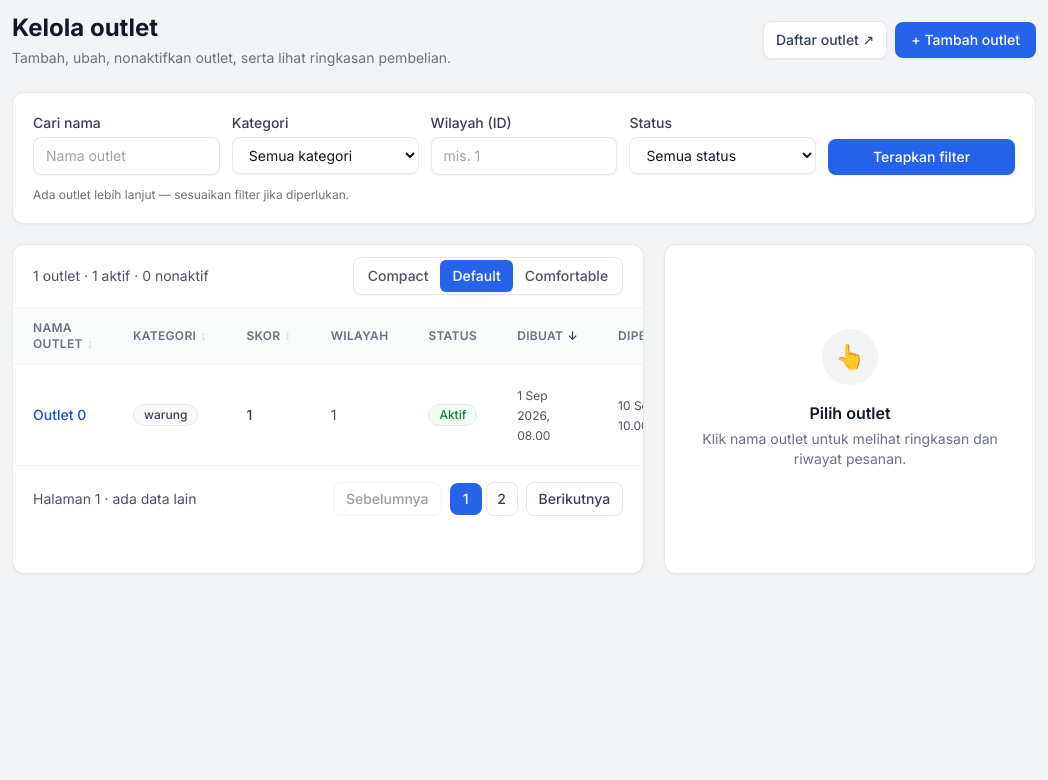
admin outlets page › sortable wiring + edge cases › renders the empty state + beyond-total pagination guard without crashing
The image size is (1048, 780).
Expected: the button "Outlet 0" is shown, [33, 405, 86, 425]
Click the button "Berikutnya": (574, 499) [526, 482, 623, 516]
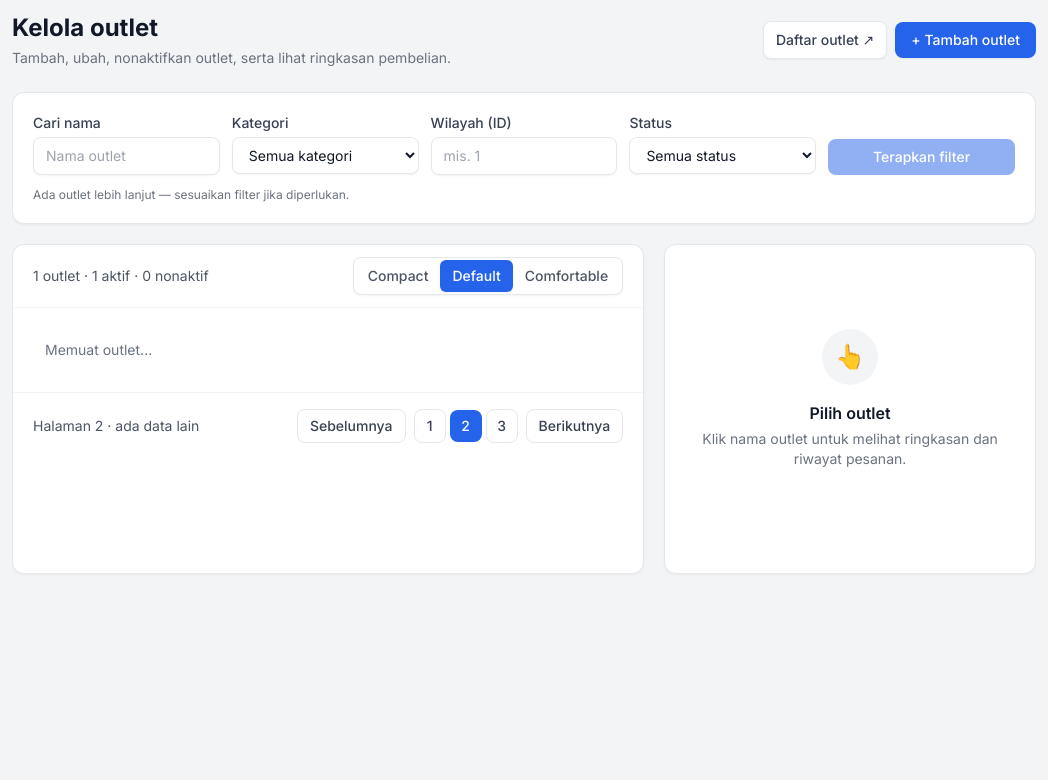
Click the button "Berikutnya": (574, 426) [526, 409, 623, 443]
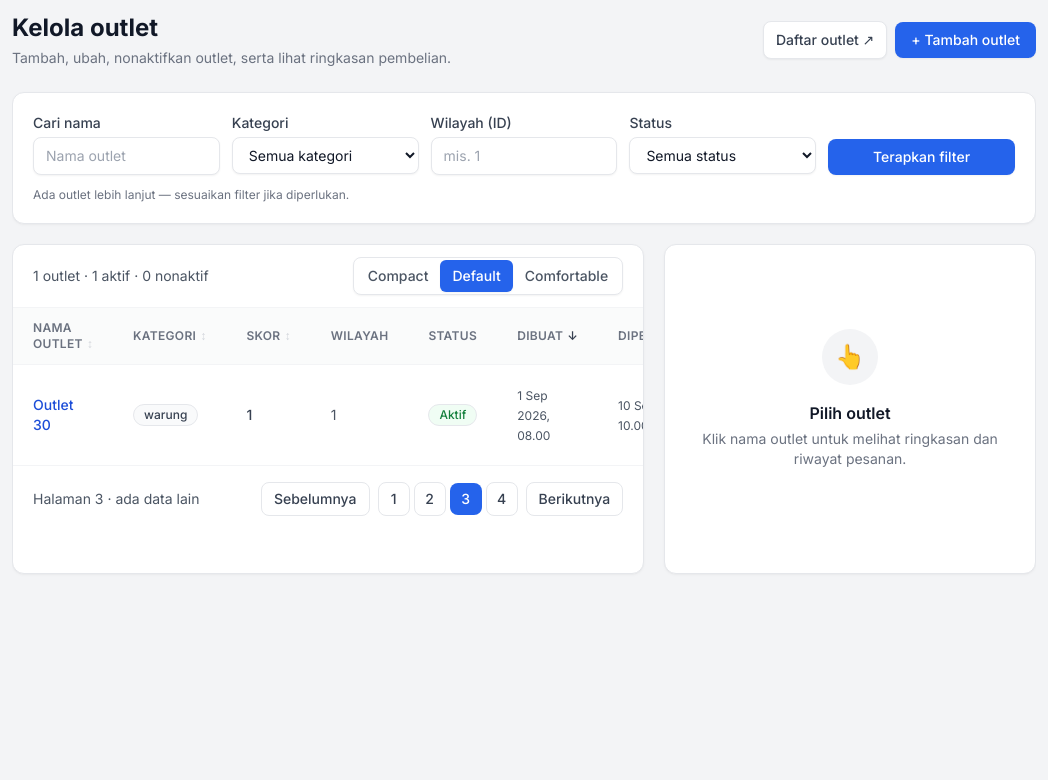
Click the button "Berikutnya": (574, 499) [526, 482, 623, 516]
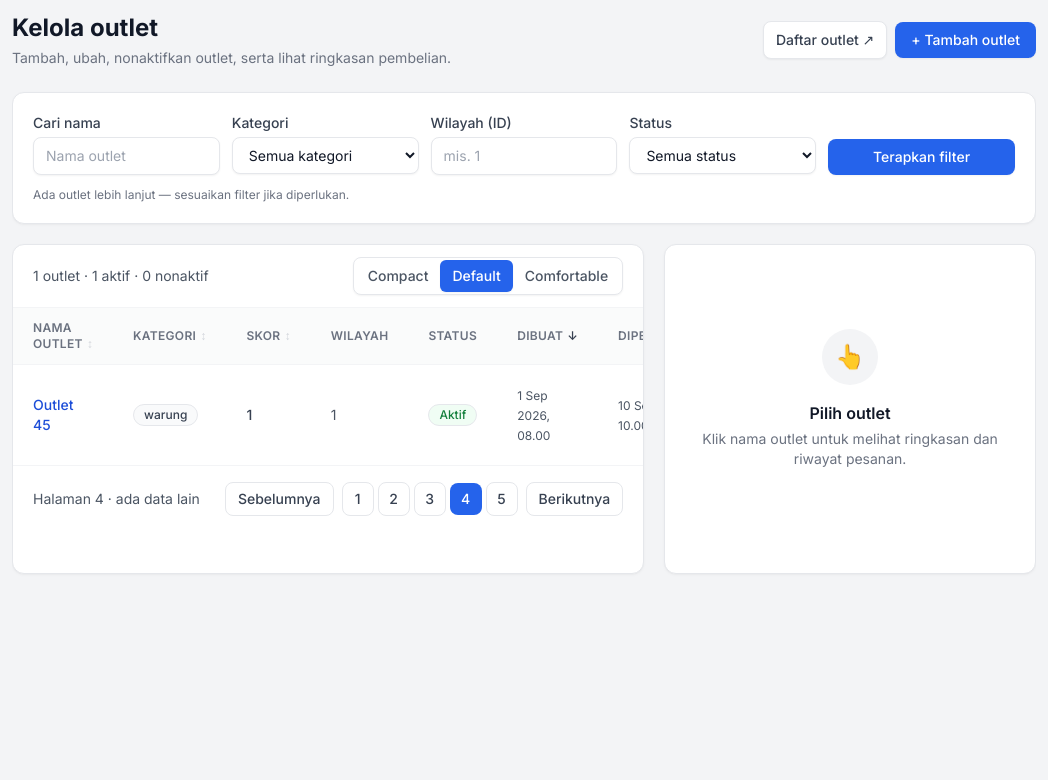
Click the button "Berikutnya": (574, 499) [526, 482, 623, 516]
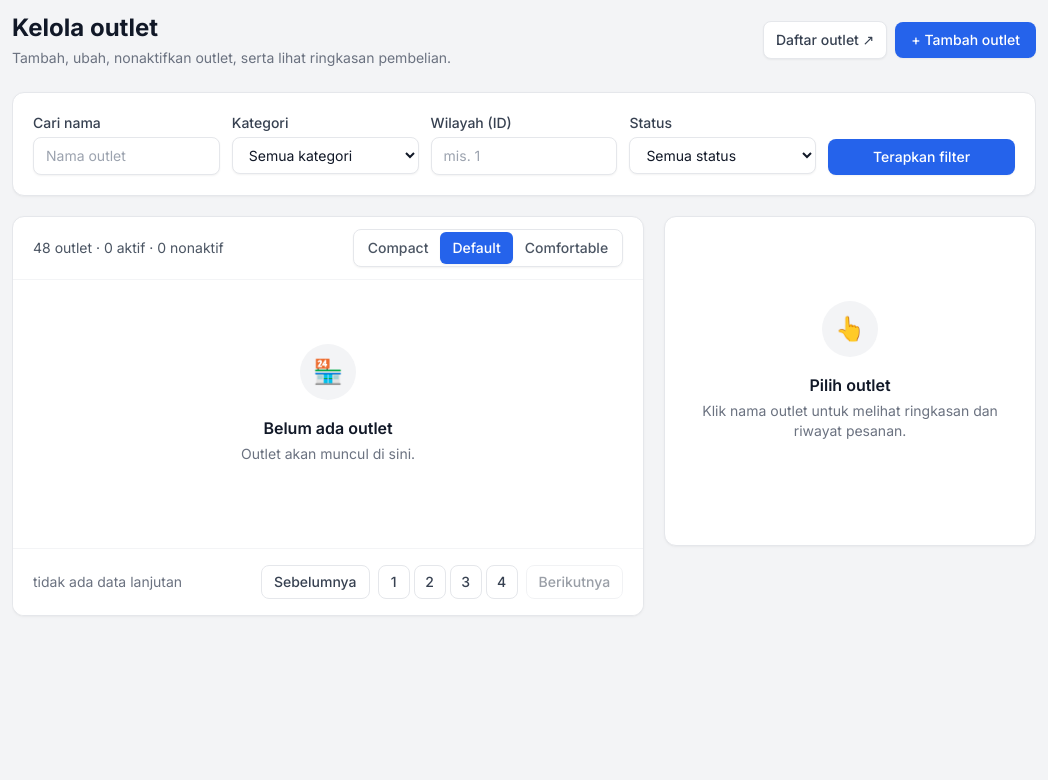
Expected: the text "tidak ada data lanjutan" is shown, [33, 573, 182, 590]
Expected: the heading "Belum ada outlet" is shown, [263, 416, 393, 440]
Expected: the button "Berikutnya" is disabled, [526, 565, 623, 599]
